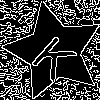K: (29, 26, 86, 84)
